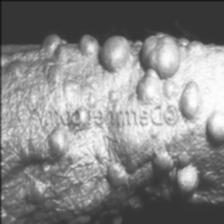Unclassified: (0, 132, 176, 215), (18, 26, 200, 101), (180, 88, 224, 185), (0, 190, 40, 224)
